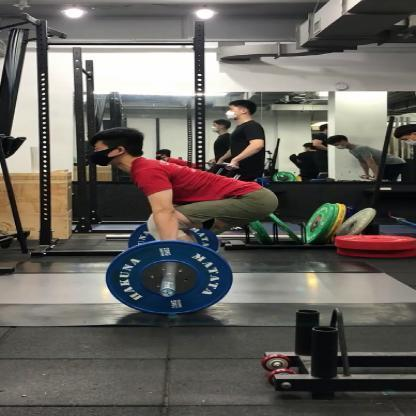barbell: (105, 240, 233, 316)
